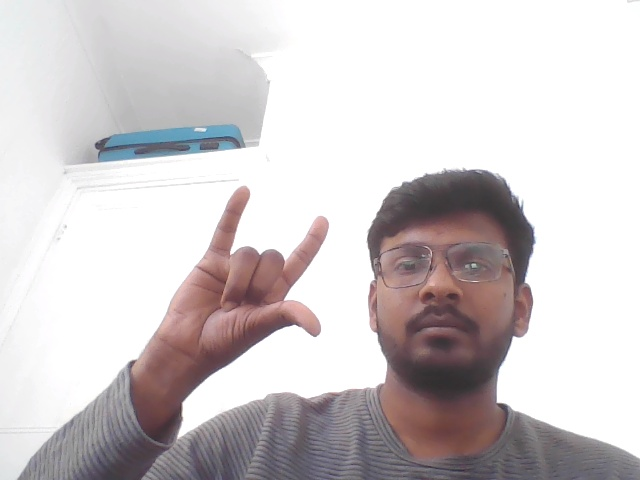ILoveYou: (132, 178, 341, 395)
